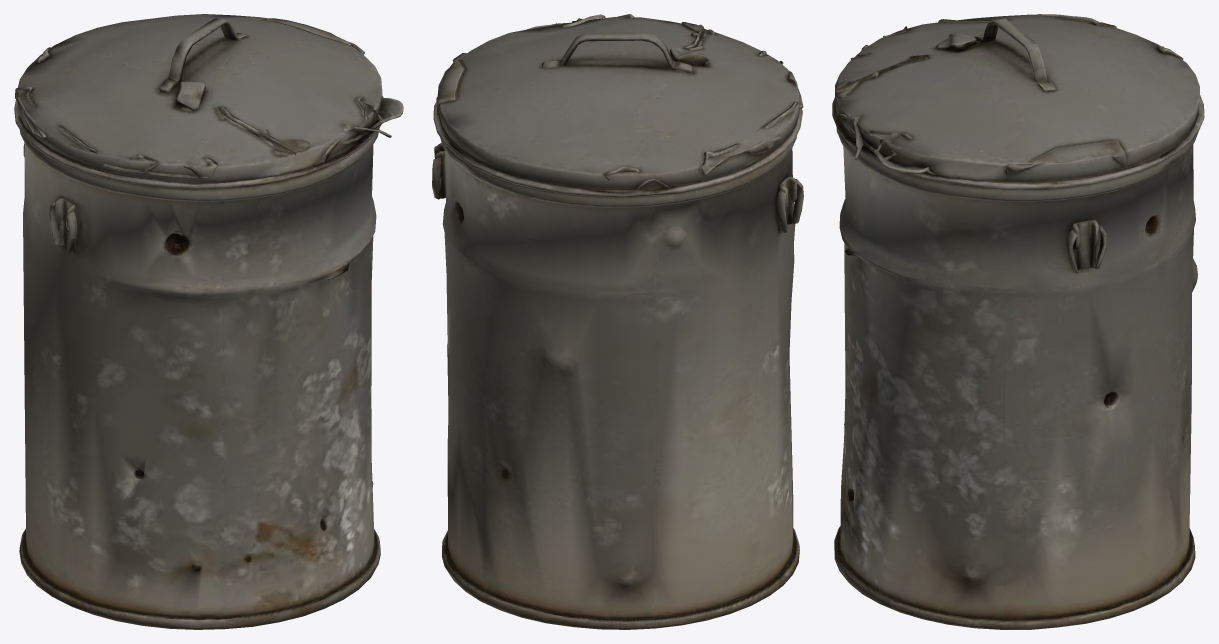
The model's file is prop_trash_bin.glb.
The picture shows the model from 3 angles, left to right: view 1: azimuth 30°, elevation 25°; view 2: azimuth 150°, elevation 25°; view 3: azimuth 270°, elevation 25°; orthographic projection.
Visible parts, largest first — view 1: tripo_node_b0ed8561-e172-4fca-adaf-72d663f91812; view 2: tripo_node_b0ed8561-e172-4fca-adaf-72d663f91812; view 3: tripo_node_b0ed8561-e172-4fca-adaf-72d663f91812.
Part boxes in pixels (bbox=[...]): tripo_node_b0ed8561-e172-4fca-adaf-72d663f91812: bbox=[14, 14, 403, 629]; tripo_node_b0ed8561-e172-4fca-adaf-72d663f91812: bbox=[432, 14, 803, 629]; tripo_node_b0ed8561-e172-4fca-adaf-72d663f91812: bbox=[832, 14, 1204, 629].
Size of the model in its own units: 0.4504 by 0.7 by 0.449.
1 material, 1 textured.
